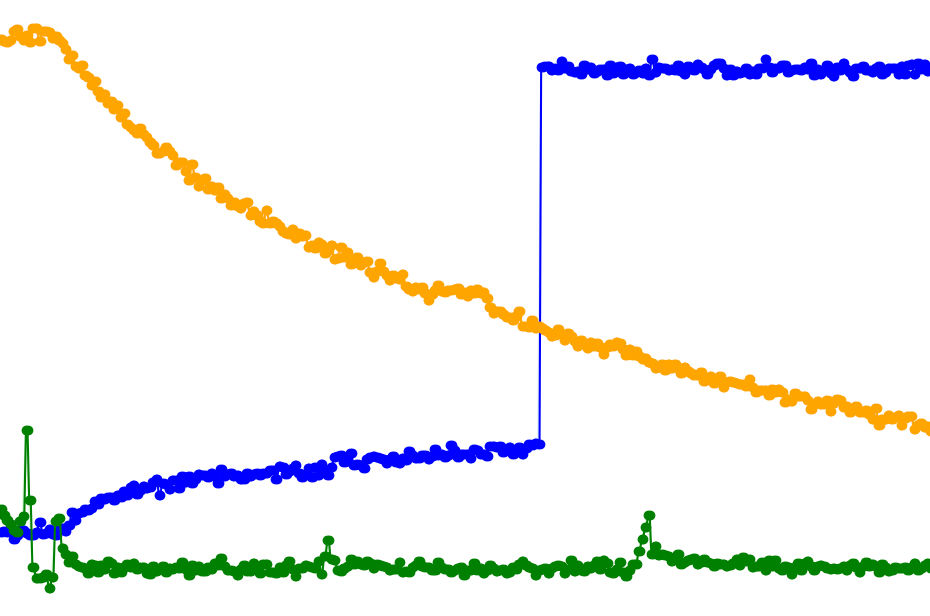Condensation CO2: (777, 0, 930, 616), (661, 0, 777, 616), (77, 0, 155, 616), (155, 0, 233, 616), (583, 0, 661, 616), (544, 0, 583, 616)
Condensation O2: (661, 0, 777, 616), (583, 0, 661, 616)
High CO2: (311, 0, 544, 616), (777, 0, 930, 616), (77, 0, 155, 616), (155, 0, 233, 616), (233, 0, 311, 616), (0, 0, 77, 616)
High O2: (311, 0, 661, 616), (777, 0, 930, 616), (661, 0, 777, 616)
Low CO2: (311, 0, 661, 616), (661, 0, 777, 616), (583, 0, 661, 616)
Low O2: (661, 0, 930, 616), (777, 0, 930, 616)
Normal: (77, 0, 661, 616), (311, 0, 661, 616), (311, 0, 622, 616), (311, 0, 583, 616), (661, 0, 930, 616), (77, 0, 311, 616), (311, 0, 544, 616), (155, 0, 311, 616), (777, 0, 930, 616), (661, 0, 777, 616), (77, 0, 155, 616), (155, 0, 233, 616), (233, 0, 311, 616), (583, 0, 661, 616), (0, 0, 77, 616), (661, 0, 738, 616), (544, 0, 583, 616)
O2 Problem: (777, 0, 930, 616), (661, 0, 777, 616)
